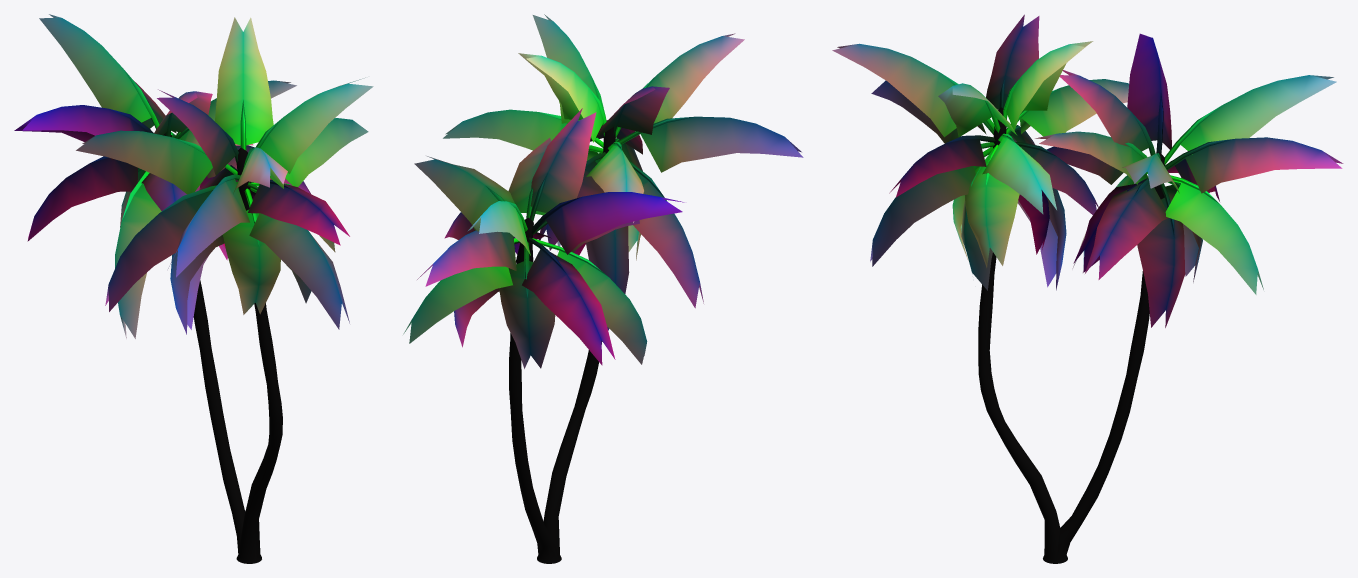
File: M_Palm_1_9.fbx
The picture shows the model from 3 angles, left to right: view 1: azimuth 30°, elevation 25°; view 2: azimuth 150°, elevation 25°; view 3: azimuth 270°, elevation 25°; orthographic projection. The views are drawn at different scales.
Parts seen in each view (by area): view 1: Palm_1_9; view 2: Palm_1_9; view 3: Palm_1_9.
Part boxes in pixels (<box>): Palm_1_9: <box>14,14,373,563</box>; Palm_1_9: <box>403,14,803,563</box>; Palm_1_9: <box>832,14,1343,563</box>.
Size of the model in its own units: 574 by 963 by 859.
